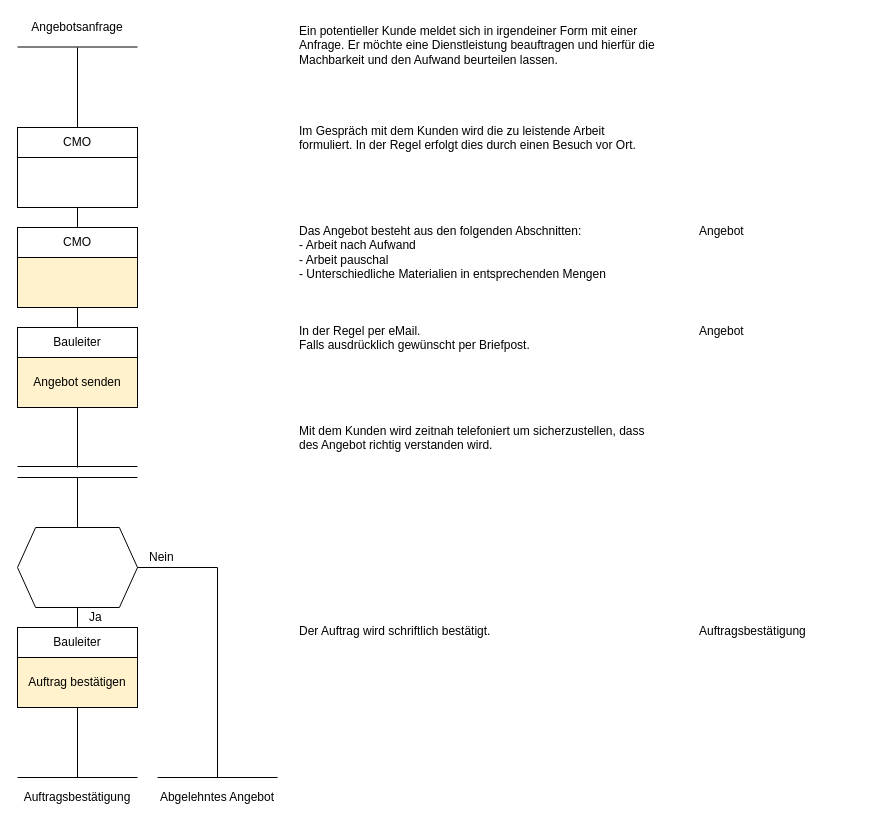
Some shapes in this 875 by 824 pixel diagram are drawn without their labels. The box of each missing label's shape, as (x1, y1, x2, y2) in pixels:
Anfrage beurteilen: (16, 156, 138, 208)
Angebot angenommen?: (16, 526, 138, 608)
Angebot erstellen: (16, 256, 138, 308)
